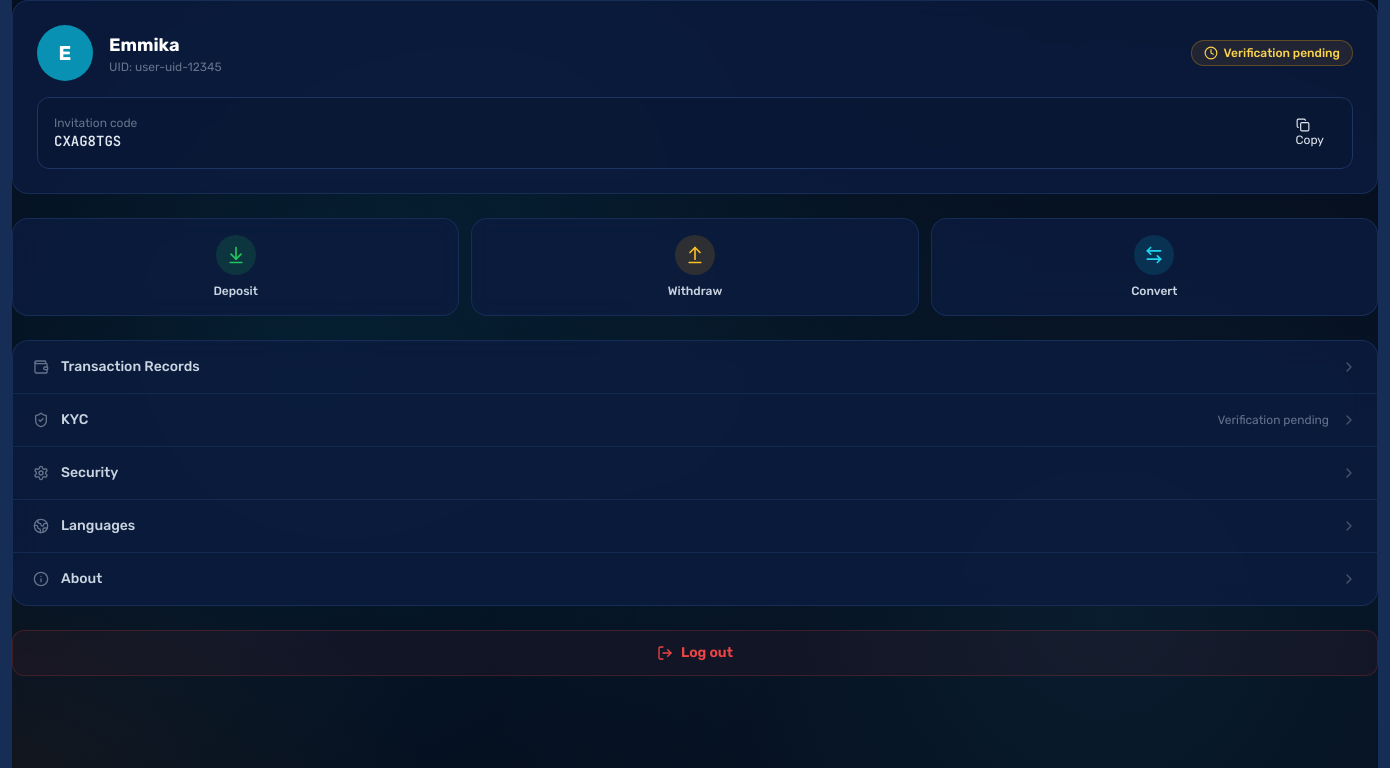
it: ProfilePage › copies the real referral code to the clipboard and shows "Copied!" feedback
Click the button "Copy": click(1310, 133) [1284,110,1336,156]
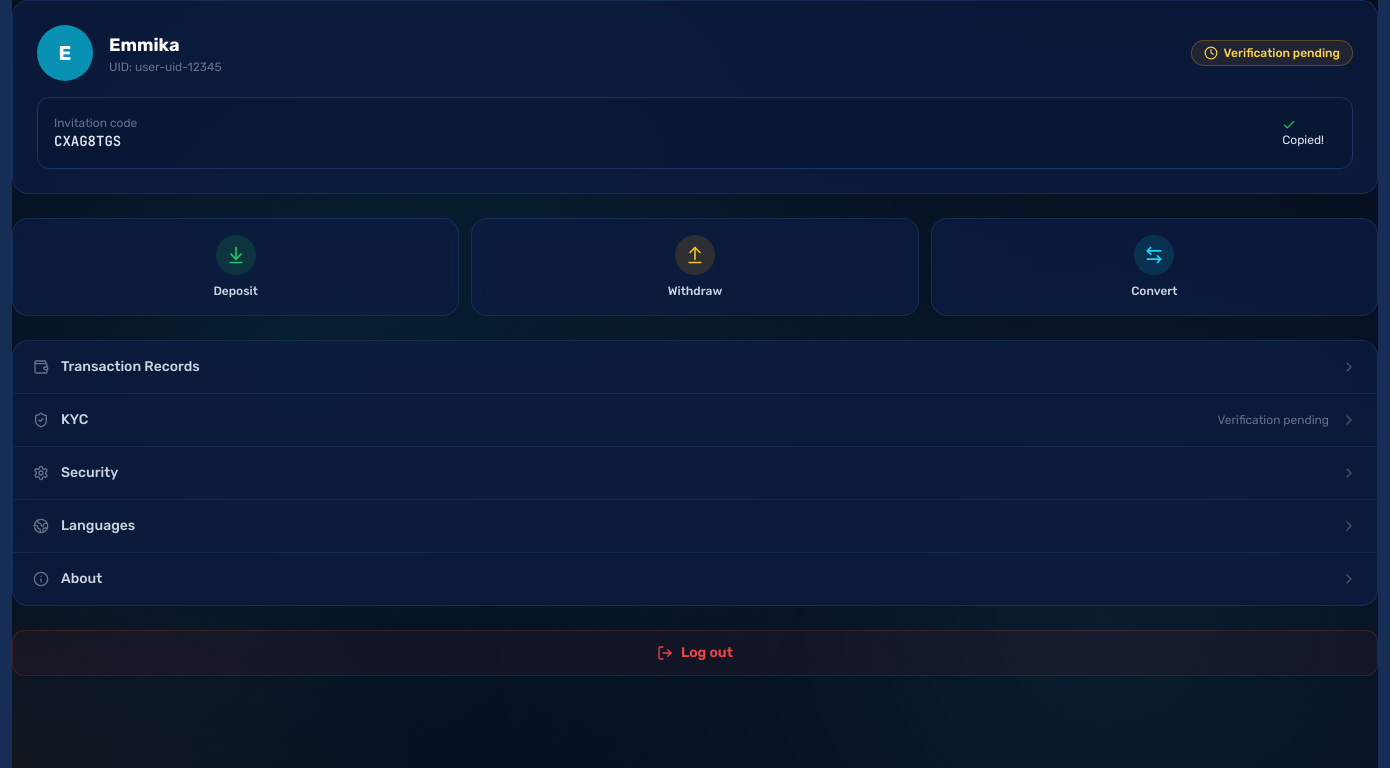
Now the button "Copied!" is shown, box [1270,110,1336,156]
